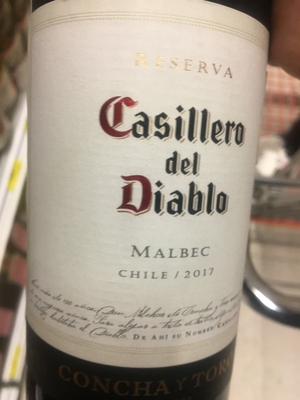casillero del diablo malbec: (29, 5, 270, 400)
